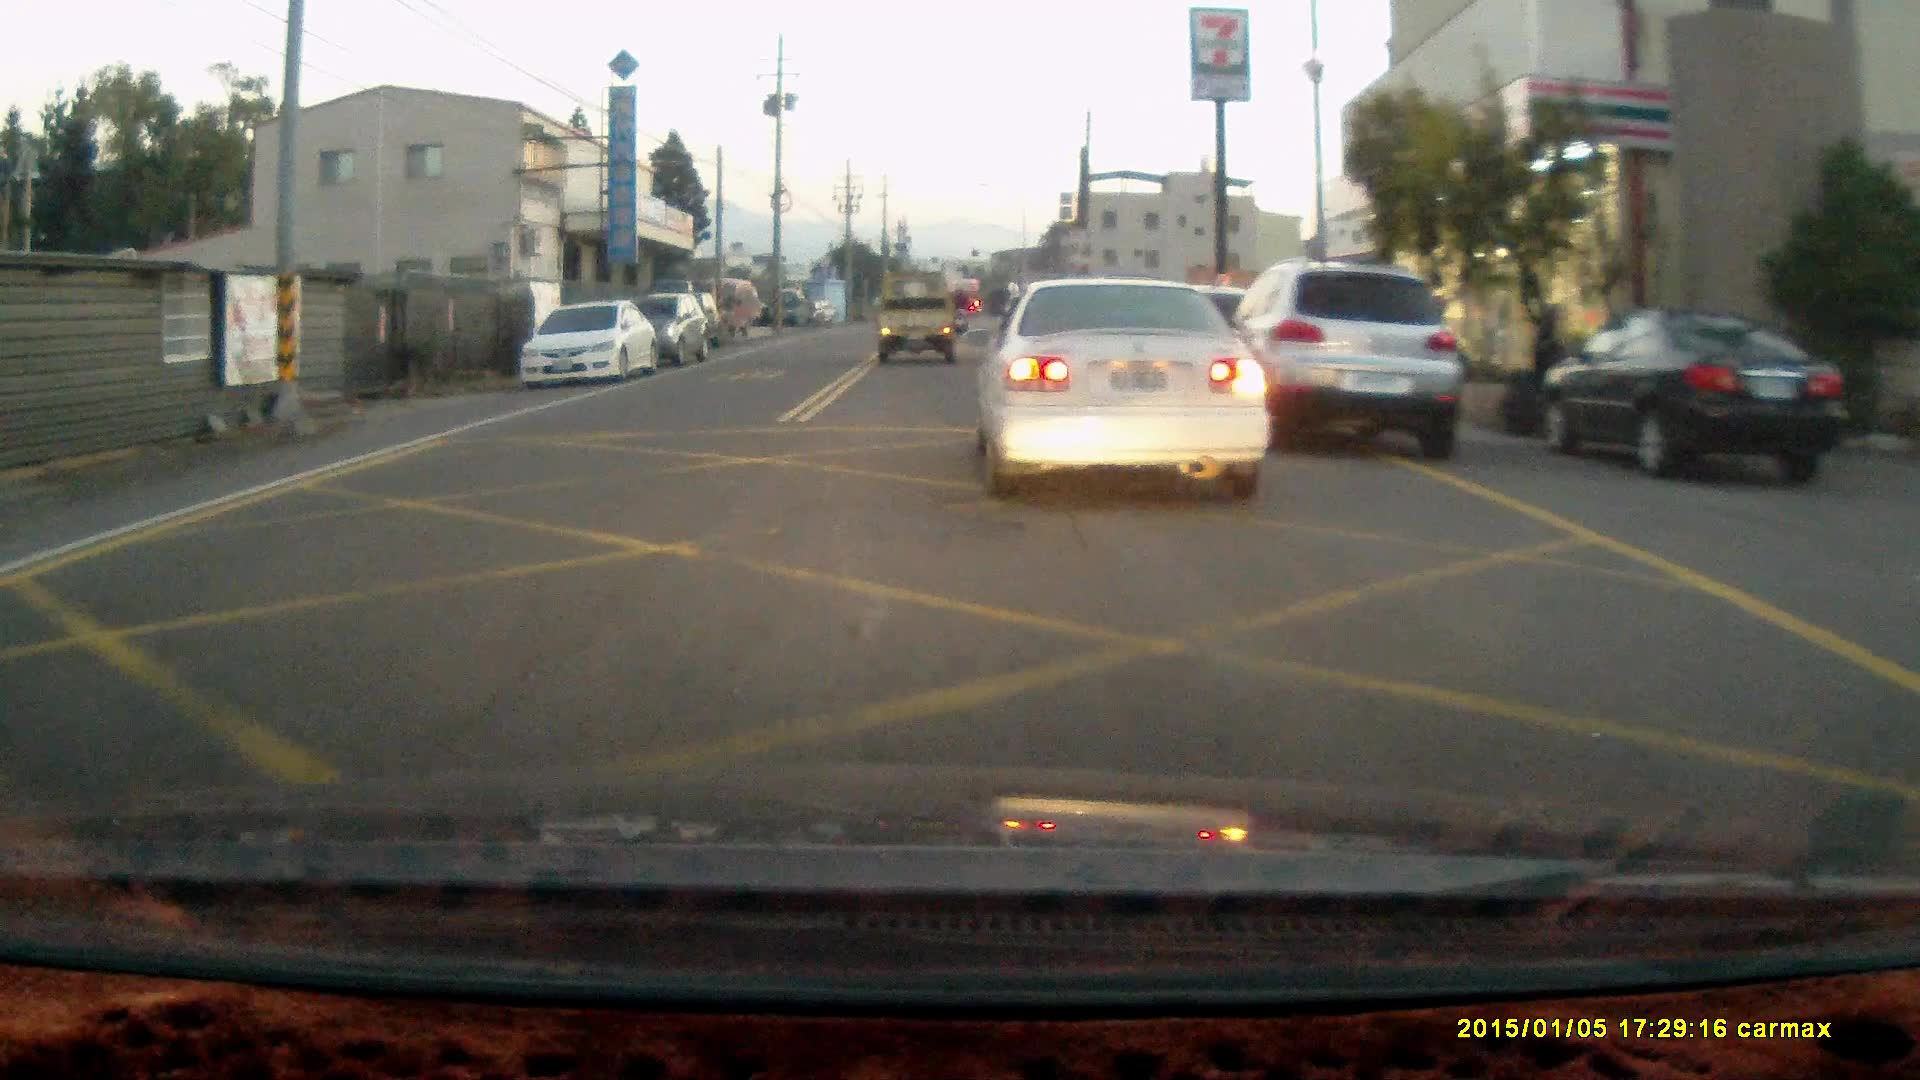rider: (1500, 301, 1602, 437), (947, 283, 973, 335)
vehicle: (973, 275, 1273, 492), (1534, 313, 1855, 481), (1218, 263, 1471, 464), (513, 294, 662, 387), (871, 273, 958, 363), (627, 295, 708, 368)
